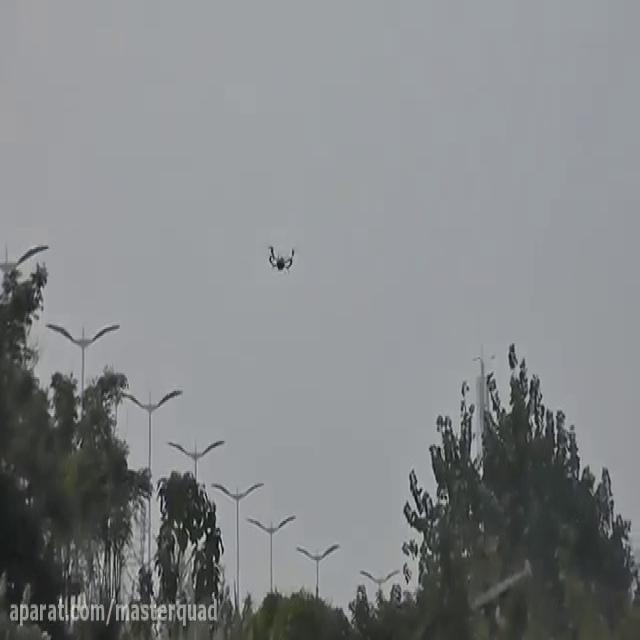drone: (265, 238, 297, 270)
